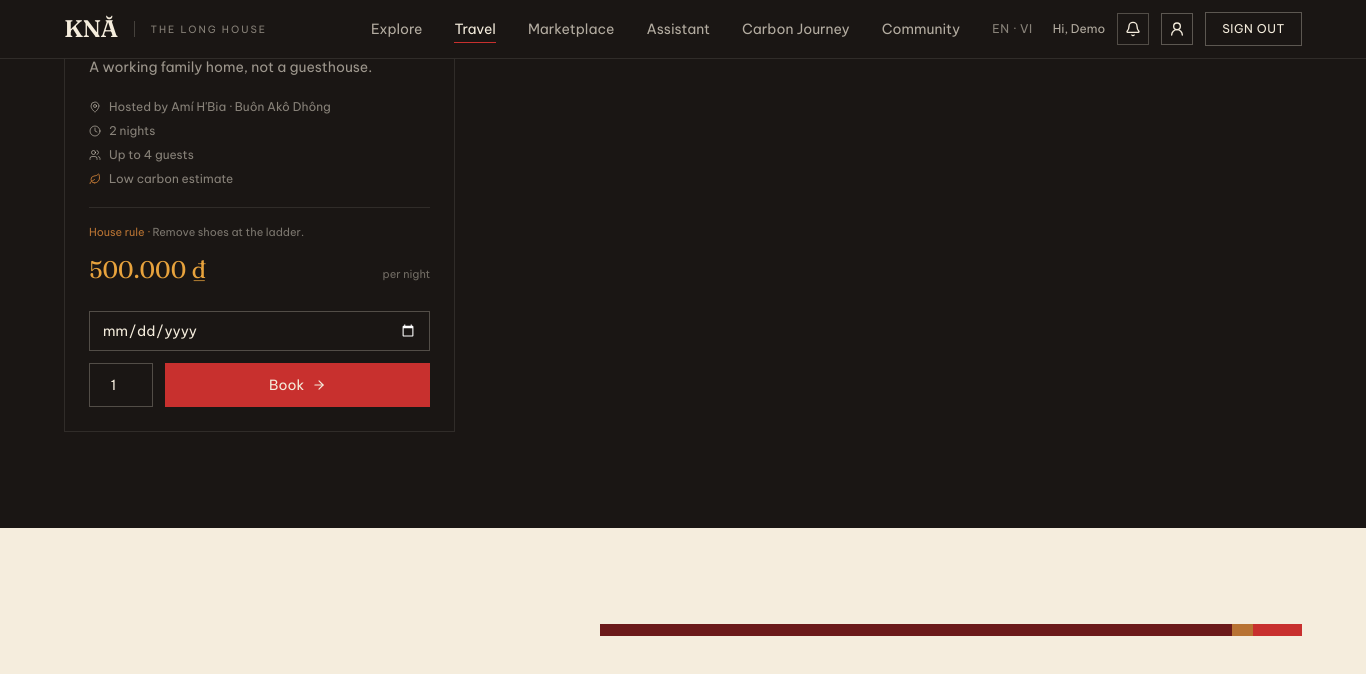
Test case: Travel › will not send a booking without an arrival date
The image size is (1366, 674).
(page scrolled)
Step 1. Click the button "Book" → (298, 384), box [165, 362, 430, 406]
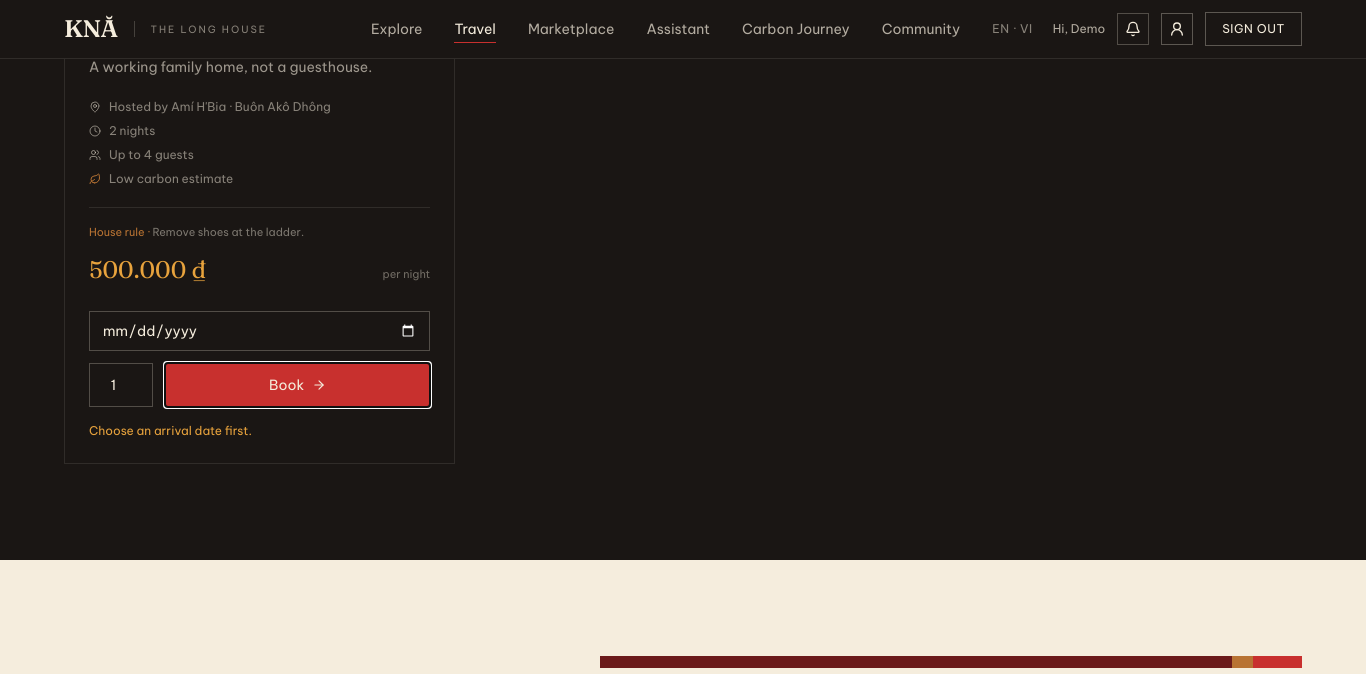
Expected: the text "Choose an arrival date first." is shown, [89, 422, 252, 438]
